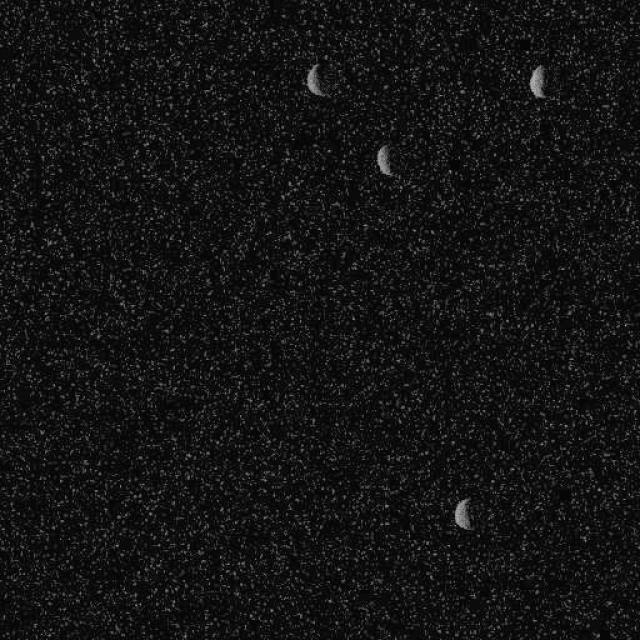D2: (305, 60, 331, 99), (452, 496, 473, 532), (375, 142, 395, 176), (528, 64, 546, 98)
